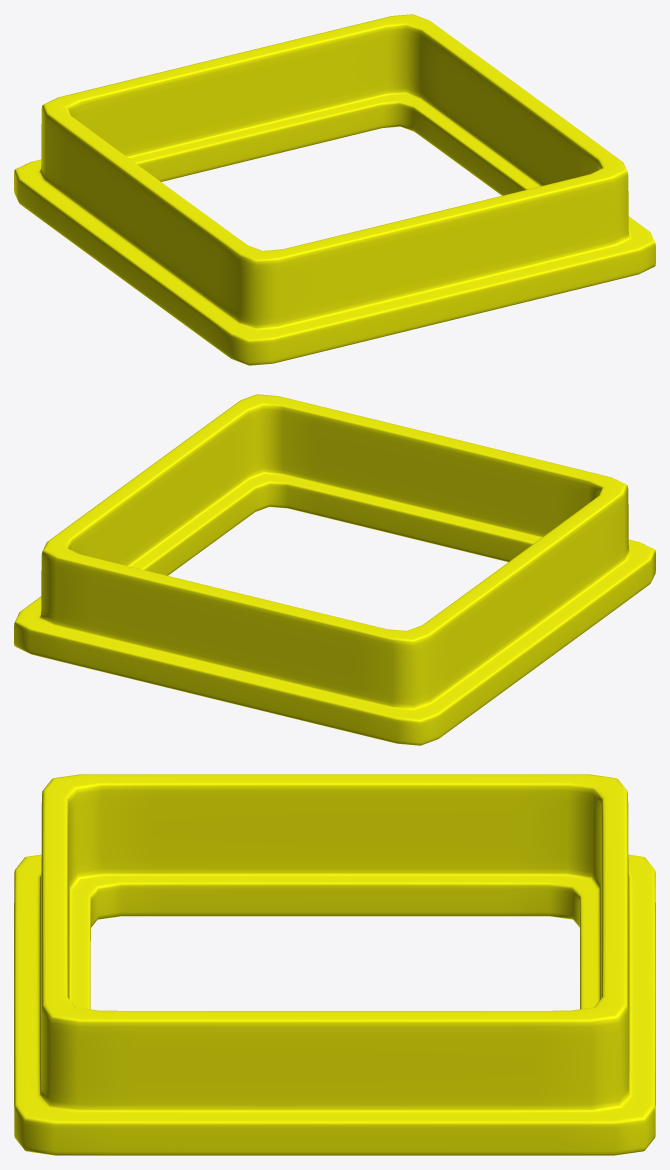
3 views of the same model, one above another, from view 1: azimuth 30°, elevation 25°; view 2: azimuth 150°, elevation 25°; view 3: azimuth 270°, elevation 25° (orthographic). The views are drawn at different scales.
Visible parts, largest first — view 1: polySurface1047; view 2: polySurface1047; view 3: polySurface1047.
Part boxes in pixels (x1,y1,x2,y2): polySurface1047: (14,14,655,365); polySurface1047: (14,394,655,745); polySurface1047: (14,774,655,1155).
Size of the model in its own units: 0.9998 by 0.2142 by 0.9998.
